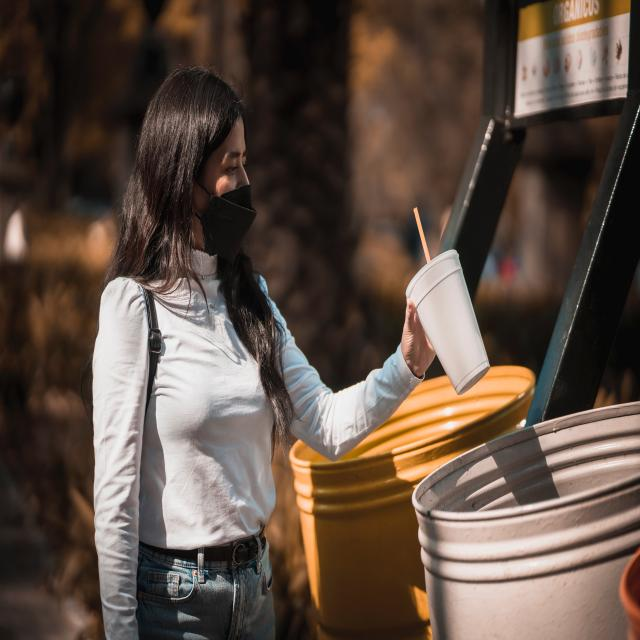plastic: (430, 271, 488, 390)
